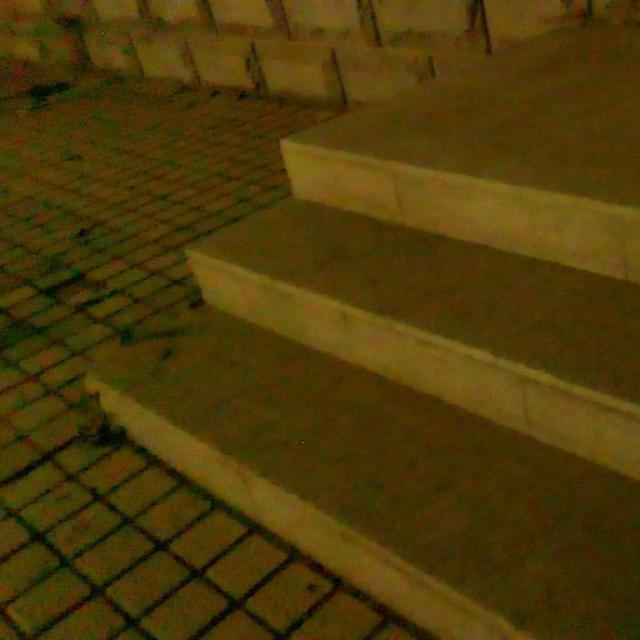Stairs: (80, 16, 639, 639)
